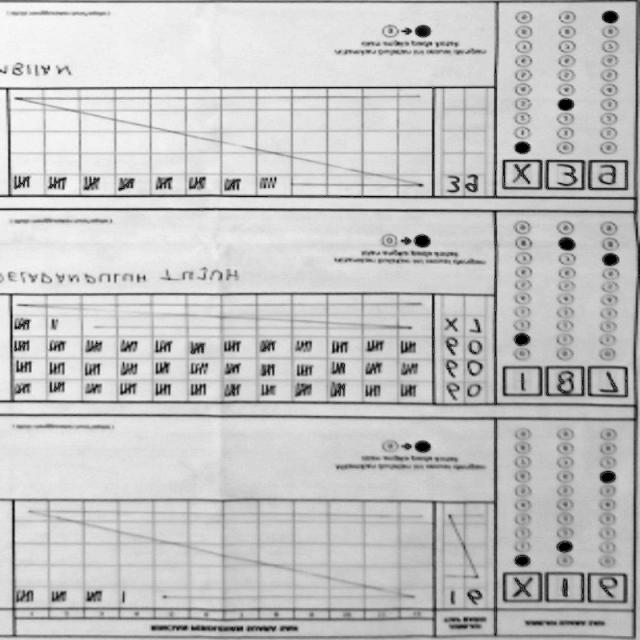Suara: (496, 362, 630, 404), (496, 155, 630, 197), (497, 569, 632, 610)
